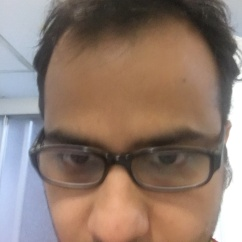glasses: (22, 131, 228, 190)
